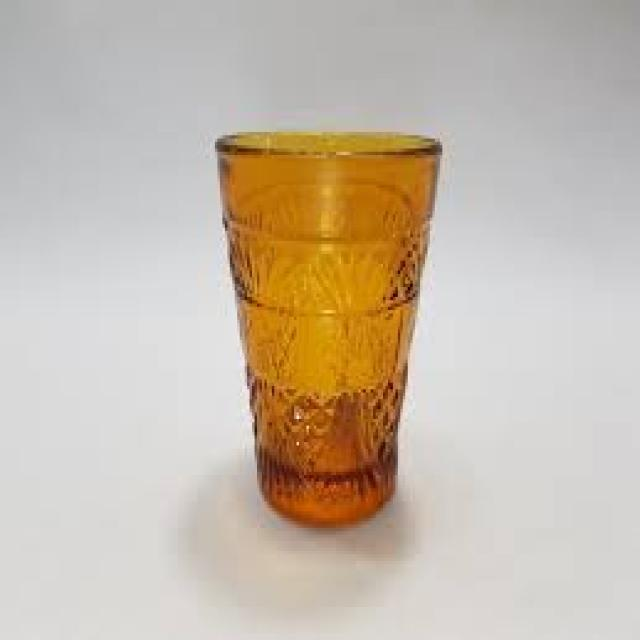Dry: (216, 132, 444, 526)
